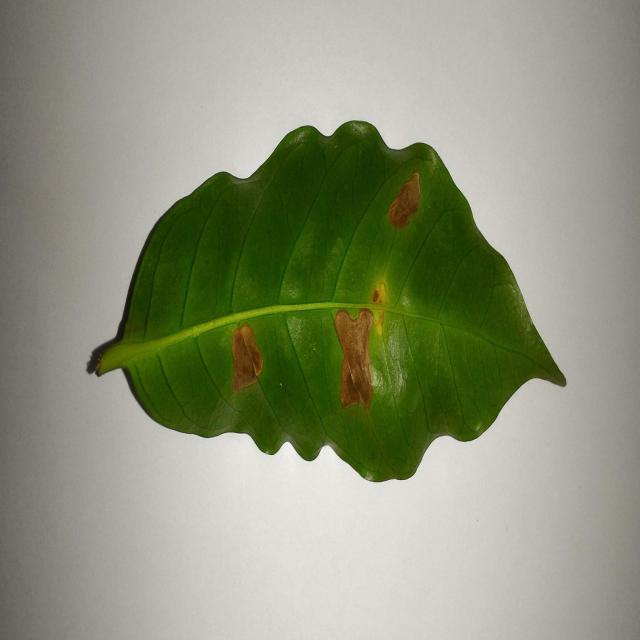miner: (333, 309, 374, 408), (231, 324, 263, 392), (387, 172, 420, 229)
rust: (372, 282, 386, 336)
